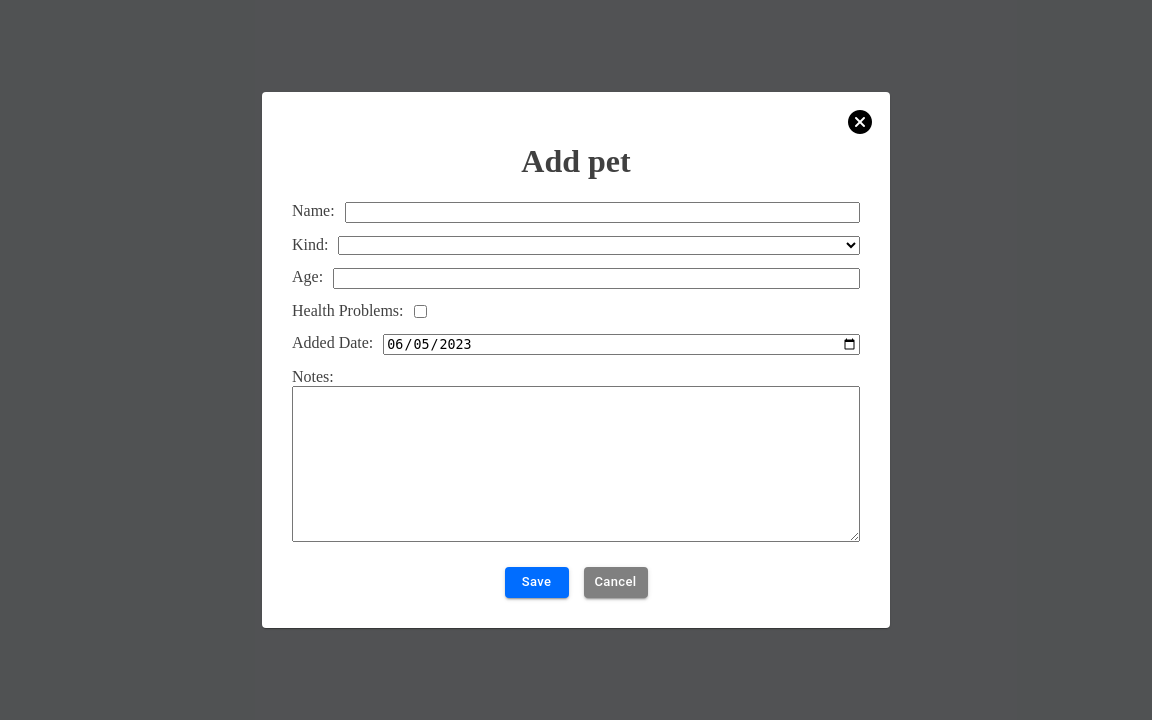
add mode › transitions to display mode after successful save
Expected: the heading "Add pet" is shown, [521,144,631,180]
Expected: the button "Save" is enabled, [504,567,568,598]
Type "test123" into the field labelled "Name:" at (602, 212), box [345,202,860,223]
Select "Cat" in the dropdown labelled "Kind:" at (599, 245), box [338,236,860,255]
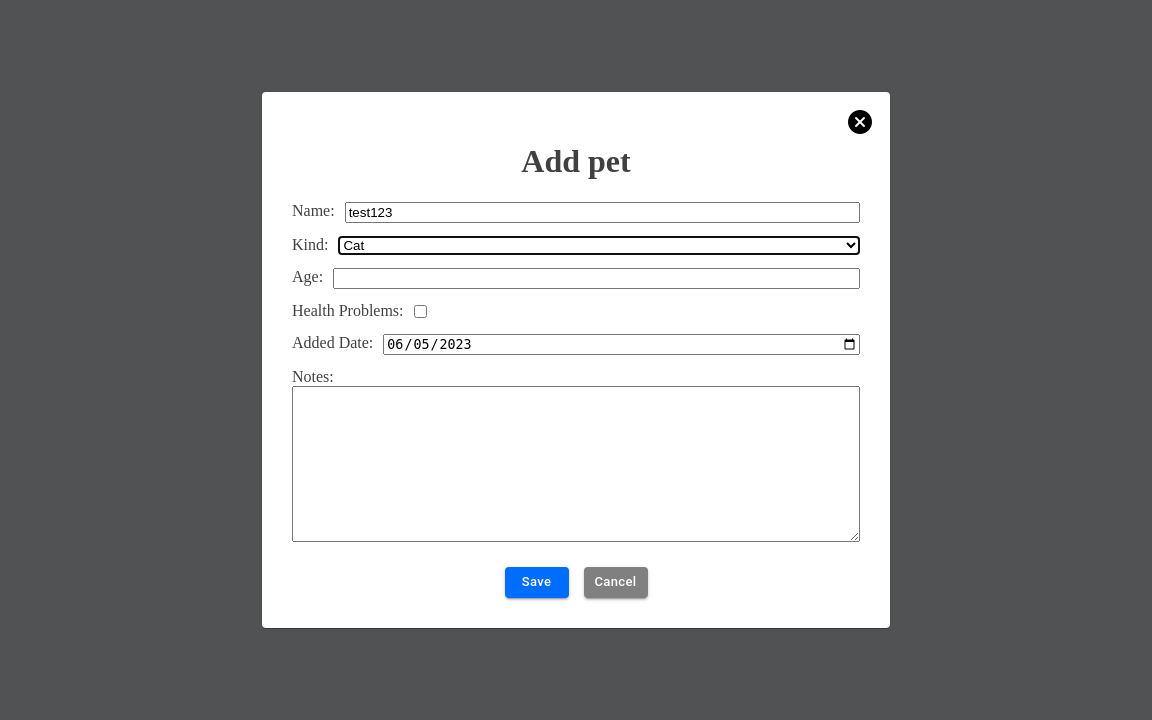
Type "2" into the number field labelled "Age:" at (597, 278), box [333,268,860,289]
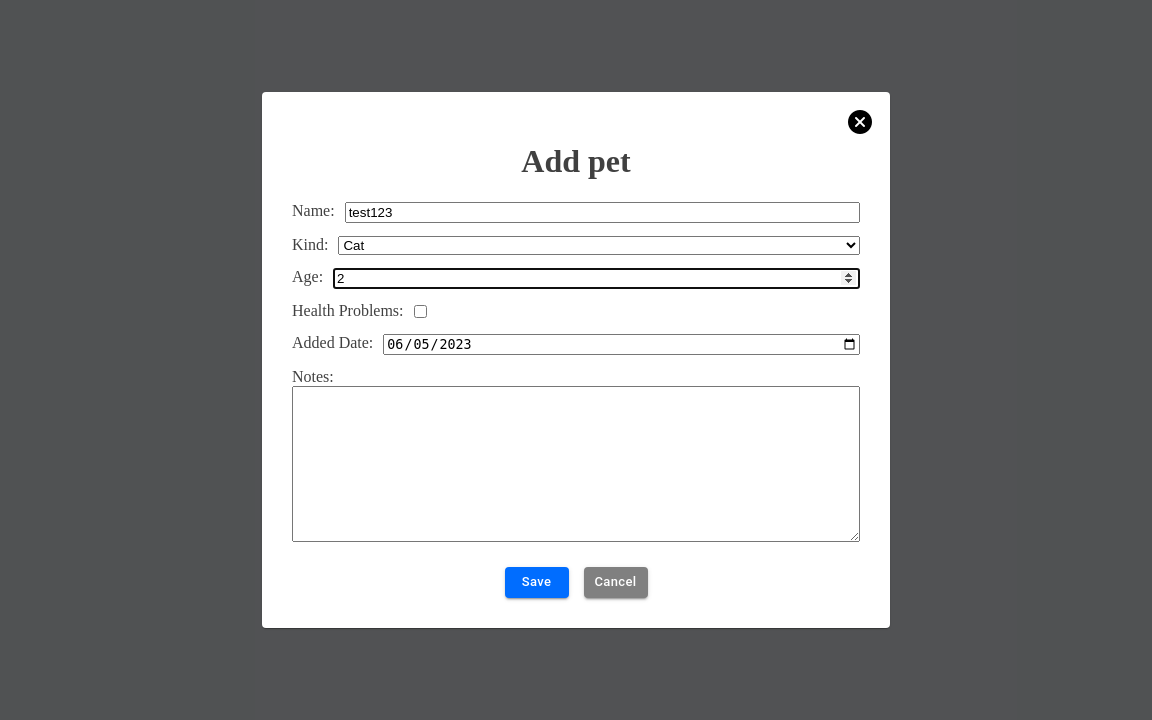
Click the checkbox labelled "Health Problems:" at (420, 311), box [414,305,426,318]
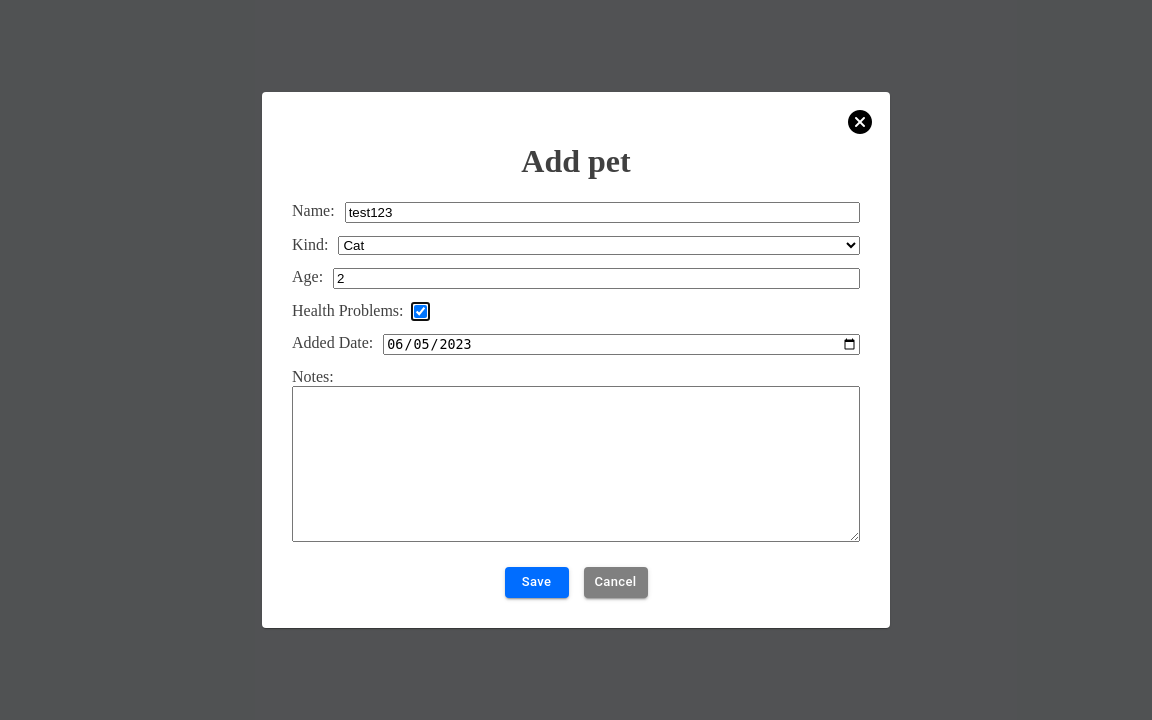
Type "2023-10-10" into the date field labelled "Added Date:" at (622, 345), box [383,334,860,355]
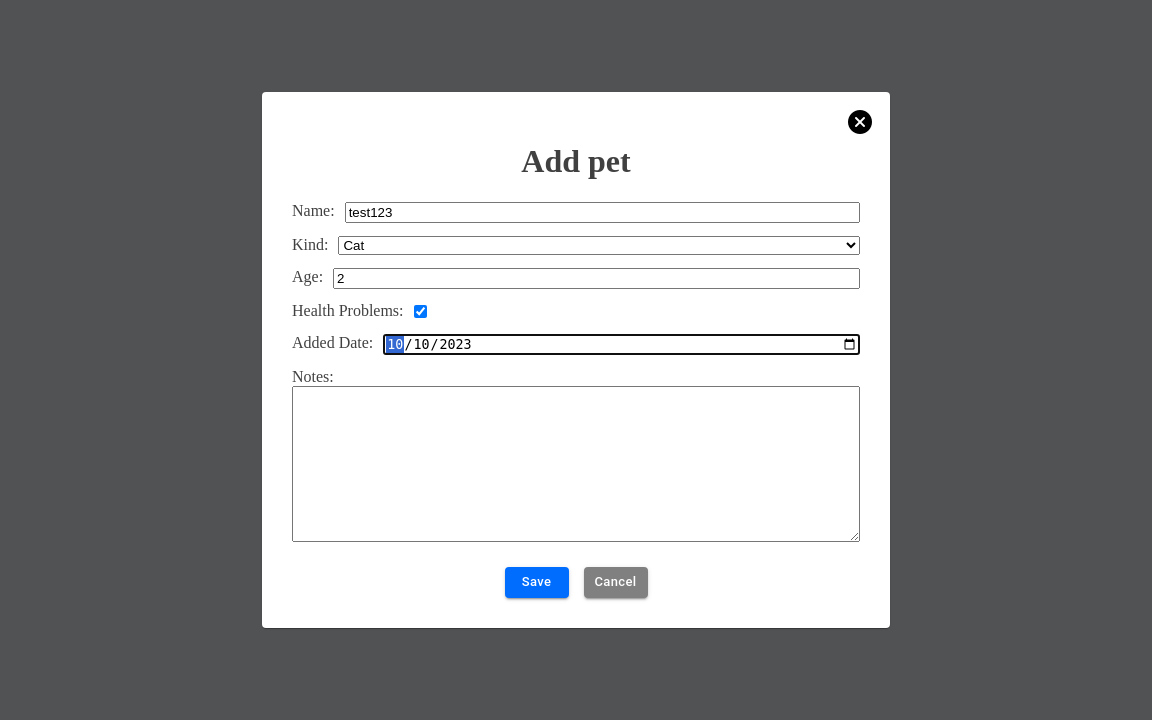
Type "Notes 123" into the text box labelled "Notes:" at (576, 464), box [292,386,860,542]
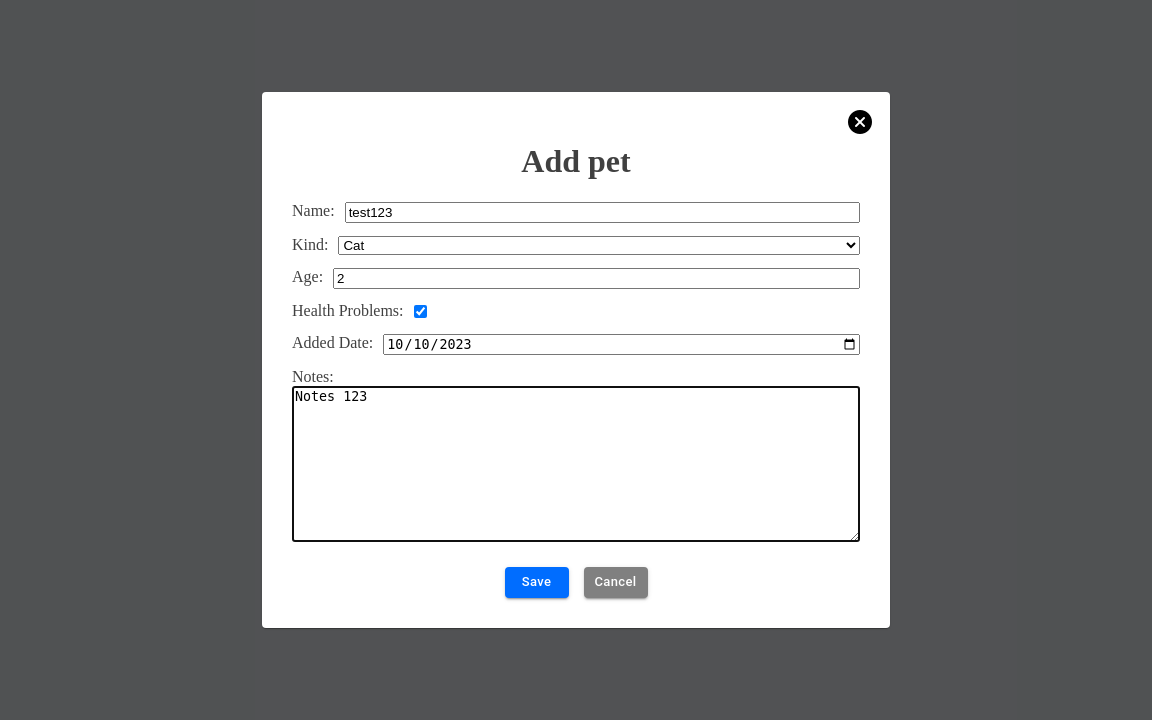
Click the button "Save" at (536, 583), box [504,567,568,598]
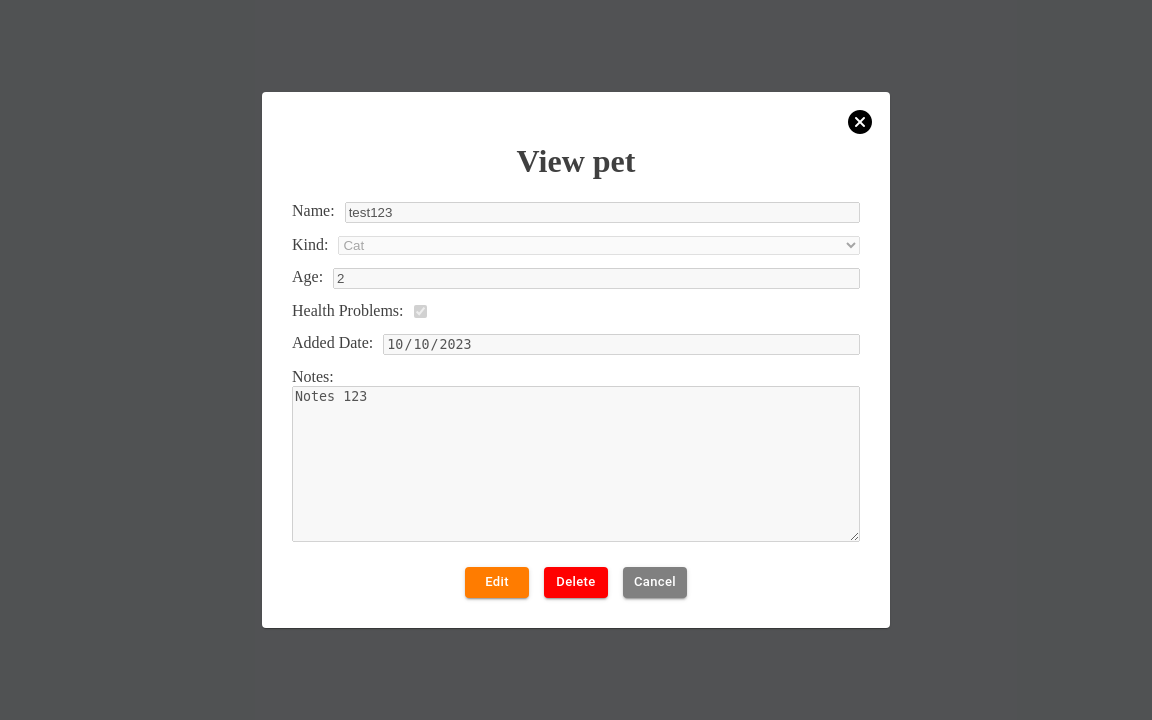
Expected: the heading "View pet" is shown, [517,144,635,180]
Expected: the button "Edit" is enabled, [465,567,529,598]
Expected: the button "Delete" is enabled, [544,567,608,598]
